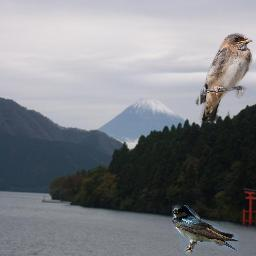Swallow: (195, 32, 253, 123), (172, 205, 239, 254)
